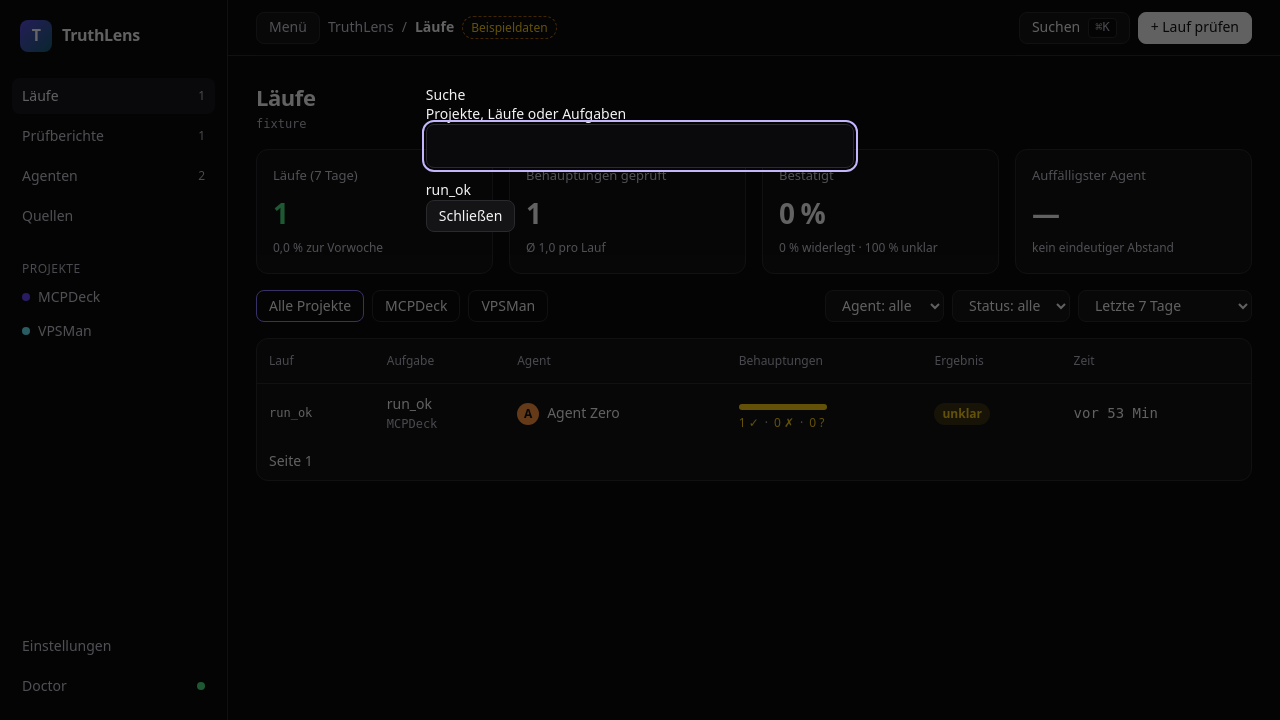
Test: opens the selected run from search
Type "run_ok" into the field labelled "Projekte, Läufe oder Aufgaben" at (640,146), box [426,124,854,168]
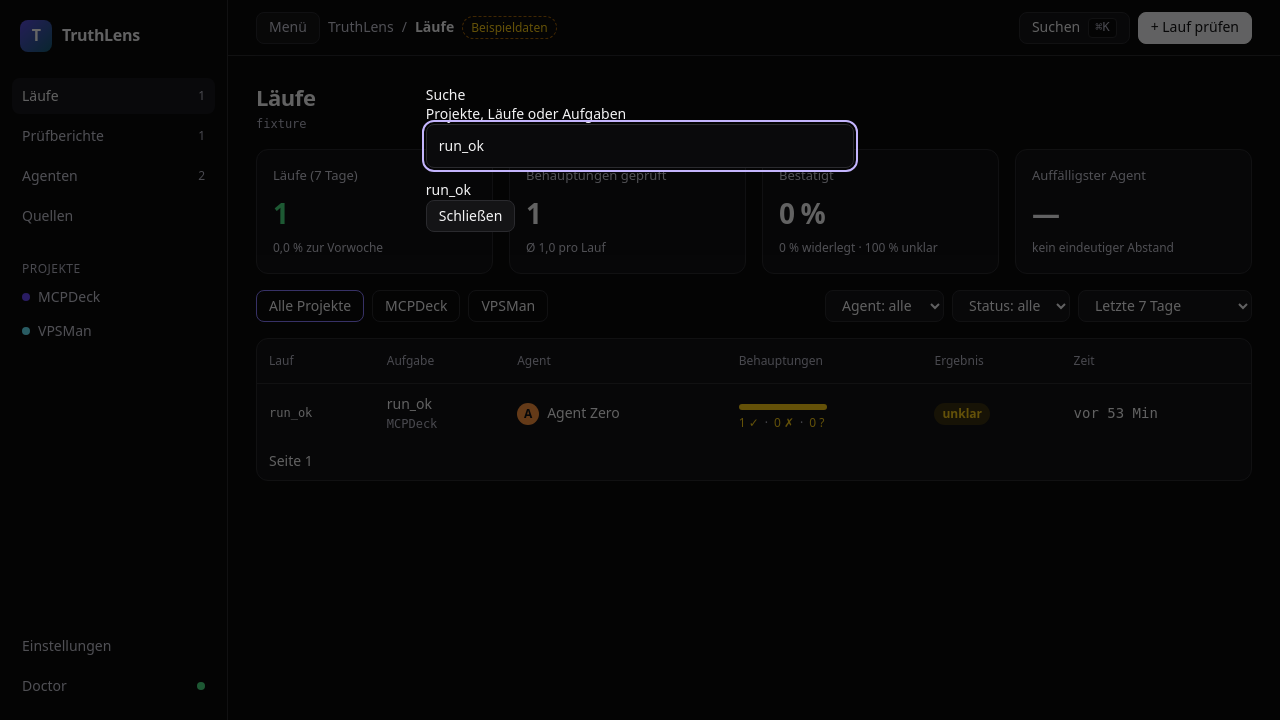
Click the link "run_ok" at (448,190), box [426,180,471,199]
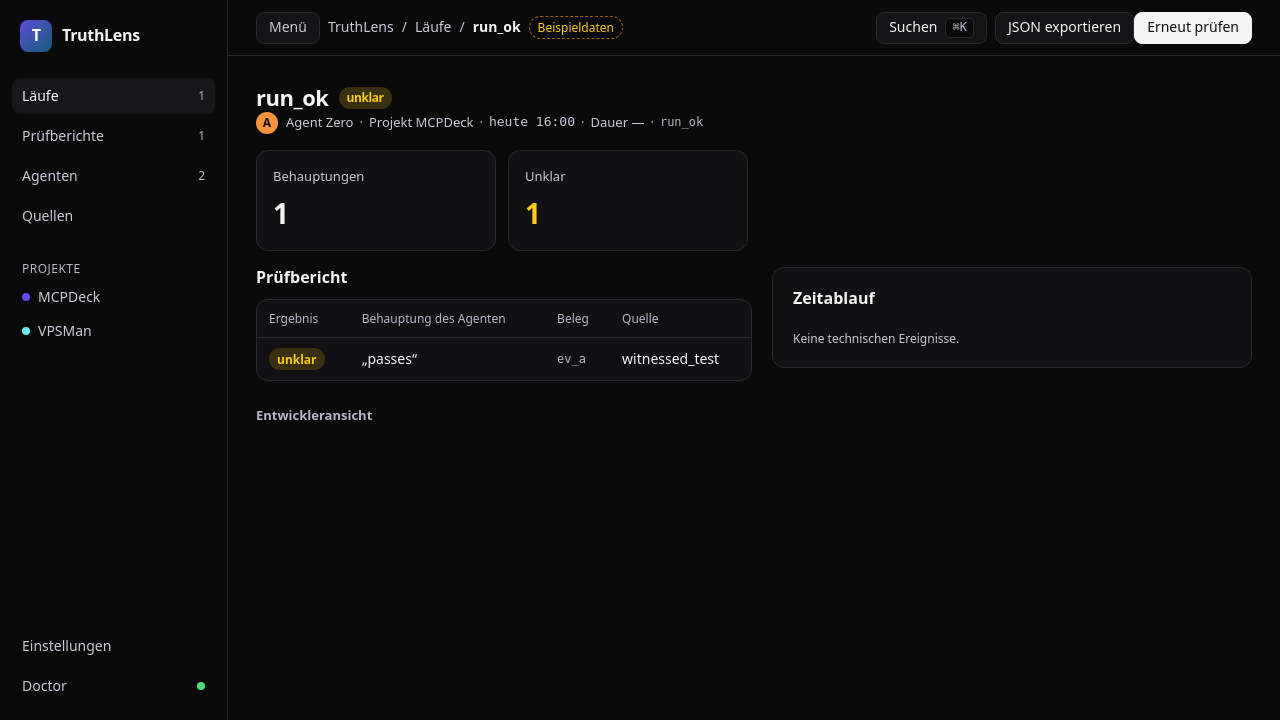
Result: the heading "run_ok unklar" is shown at [256,82,392,112]
Result: the dialog is gone
